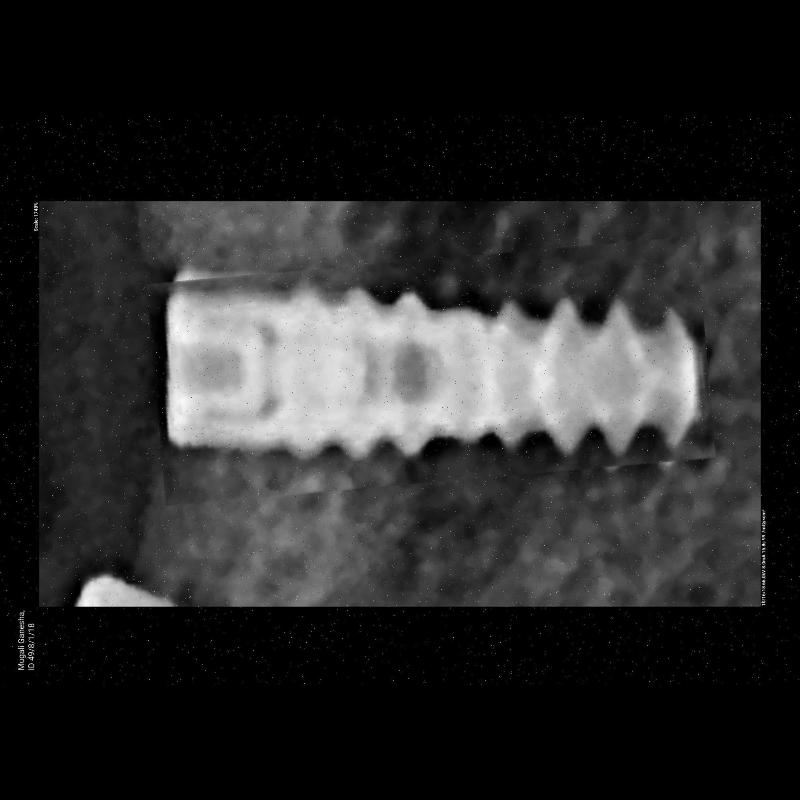NORIS: (151, 248, 711, 494)
